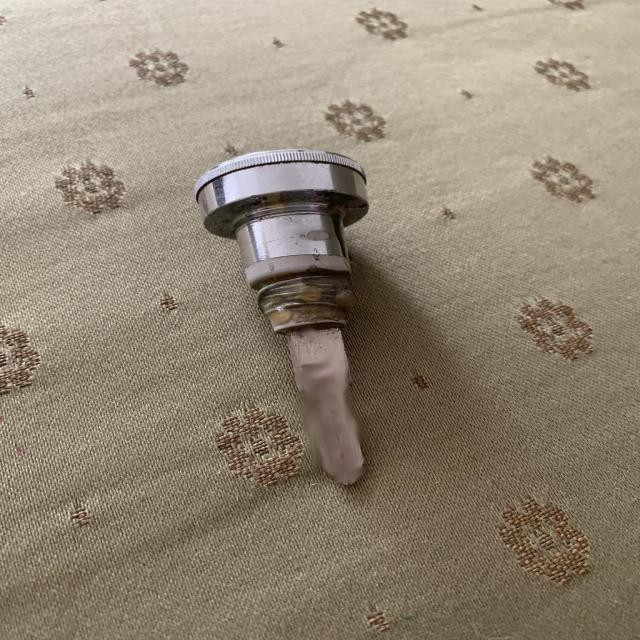Frontdoor keys: (186, 144, 374, 490)
